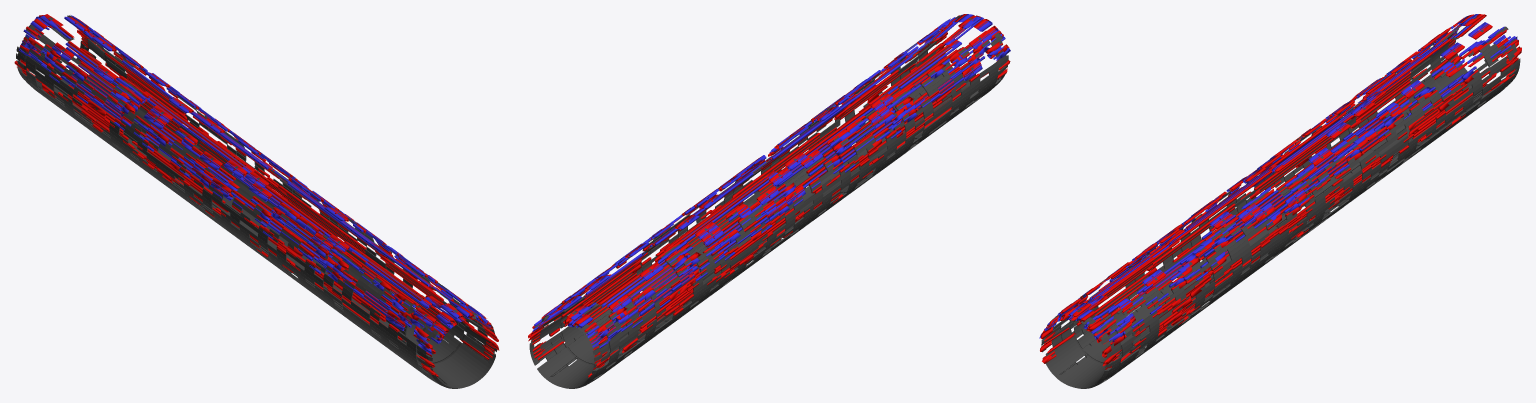
3 views of the same model, side by side, from view 1: azimuth 30°, elevation 25°; view 2: azimuth 150°, elevation 25°; view 3: azimuth 330°, elevation 25° (orthographic).
Parts seen in each view (by area): view 1: Cylinder; view 2: Cylinder; view 3: Cylinder.
Boxes of the visible parts, x1=… form: Cylinder: x1=14, y1=14, x2=499, y2=388; Cylinder: x1=528, y1=14, x2=1010, y2=388; Cylinder: x1=1039, y1=14, x2=1521, y2=388.
Size of the model in its own units: 204 by 204 by 2066.
